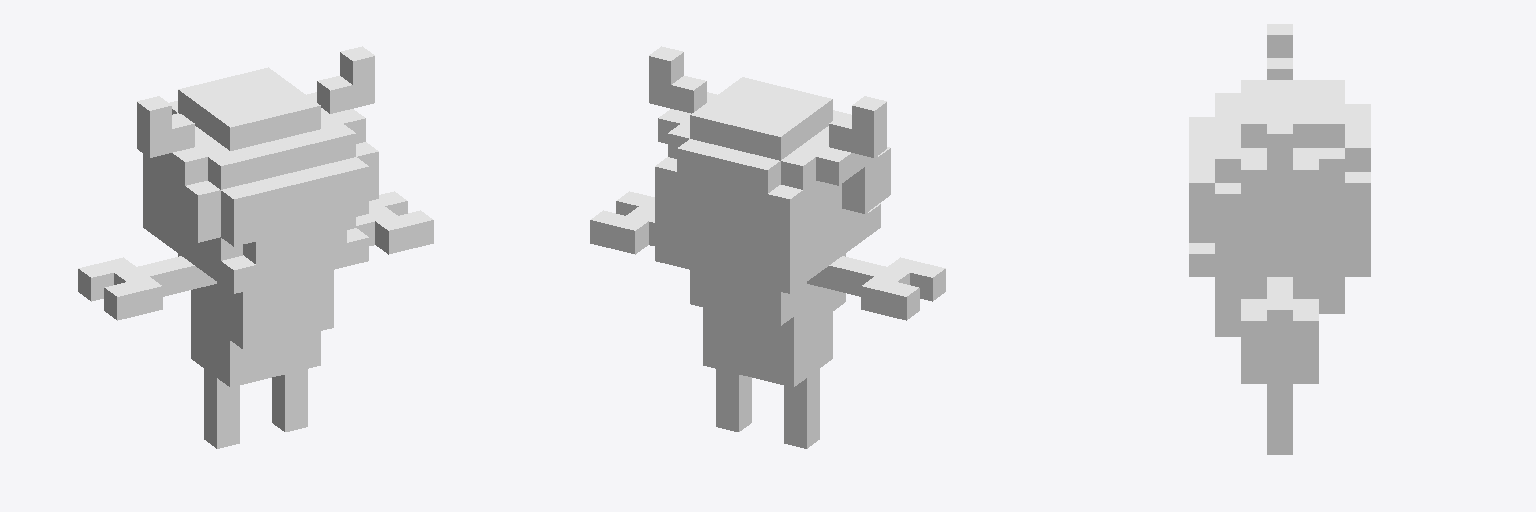
Rendered from rangerobot.obj.
The picture shows the model from 3 angles: view 1: azimuth 30°, elevation 25°; view 2: azimuth 150°, elevation 25°; view 3: azimuth 270°, elevation 25°; orthographic projection.
Parts seen in each view (by area): view 1: object 1; view 2: object 1; view 3: object 1.
Boxes of the visible parts, x1,y1,x2,y2 form: object 1: [78, 46, 433, 448]; object 1: [590, 46, 945, 448]; object 1: [1189, 24, 1370, 454].
Bounding box in the file's own units: 1.4 × 1.5 × 0.7.